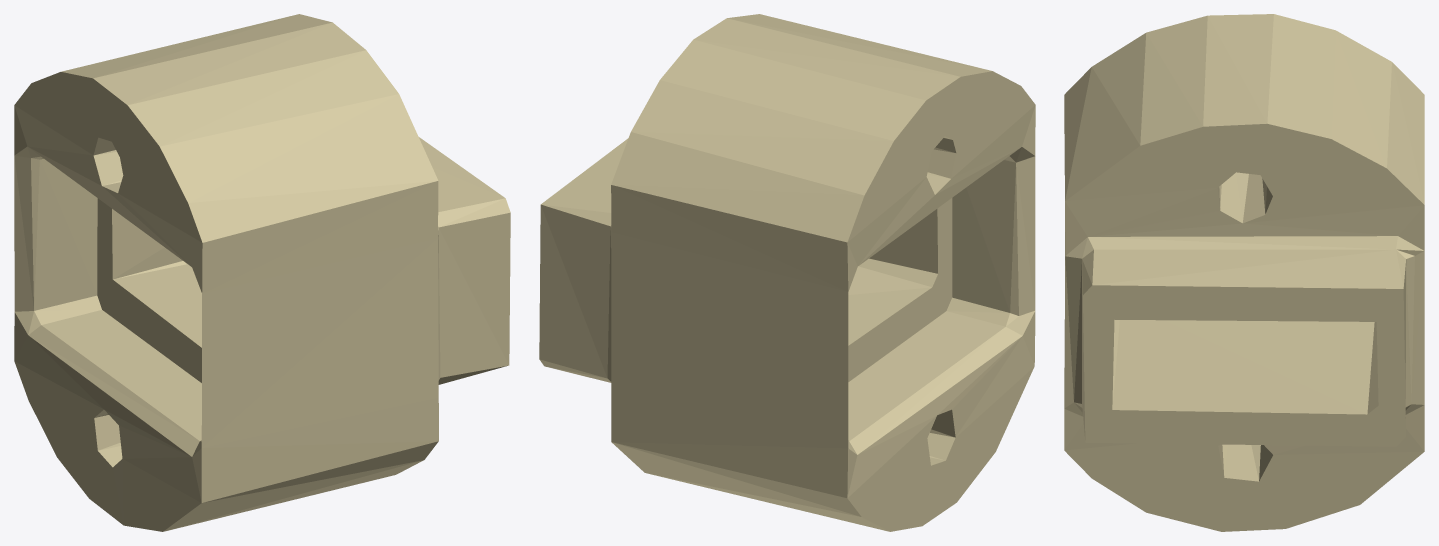
The model's file is HipAdapterB.dae.
The picture shows the model from 3 angles, left to right: view 1: azimuth 30°, elevation 25°; view 2: azimuth 150°, elevation 25°; view 3: azimuth 270°, elevation 25°; orthographic projection. The views are drawn at different scales.
Parts seen in each view (by area): view 1: visual_Hip_Adapter_B; view 2: visual_Hip_Adapter_B; view 3: visual_Hip_Adapter_B.
Part boxes in pixels (x1,y1,x2,y2): visual_Hip_Adapter_B: (14,14,510,531); visual_Hip_Adapter_B: (539,14,1035,531); visual_Hip_Adapter_B: (1064,14,1424,531).
Size of the model in its own units: 0.0195 by 0.02 by 0.025.
